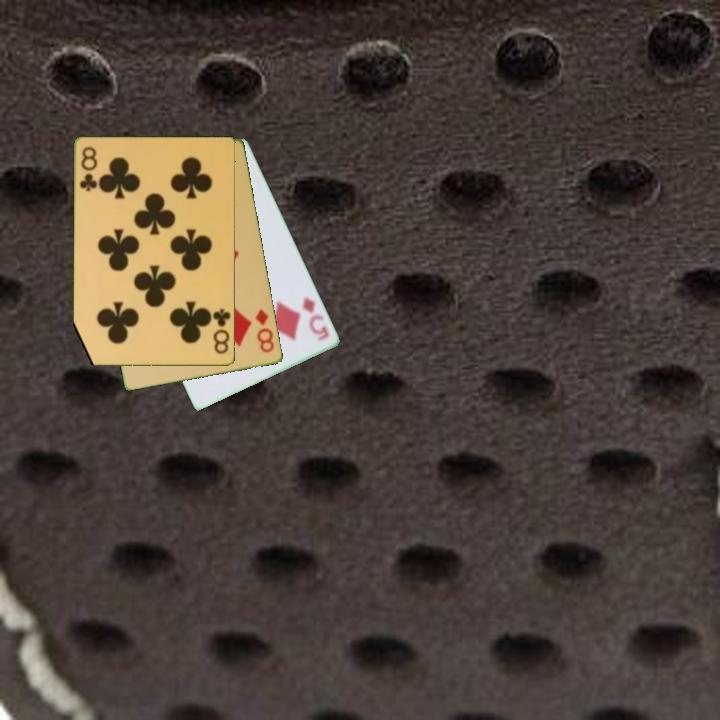5d: (299, 293, 332, 344)
8c: (210, 305, 233, 357), (77, 144, 100, 194)
8d: (252, 306, 277, 356)
